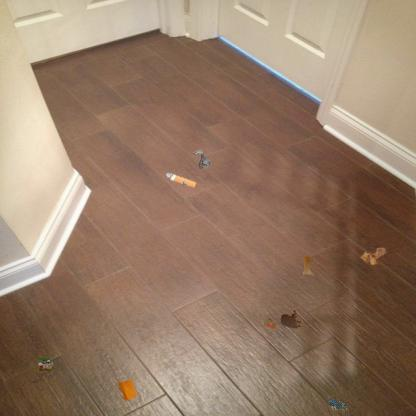dirty: (164, 171, 198, 190), (116, 377, 139, 403), (359, 246, 387, 267), (190, 148, 214, 172), (327, 395, 349, 415), (260, 314, 280, 333), (37, 356, 57, 373)
liquid: (280, 309, 304, 330), (302, 255, 316, 278)
